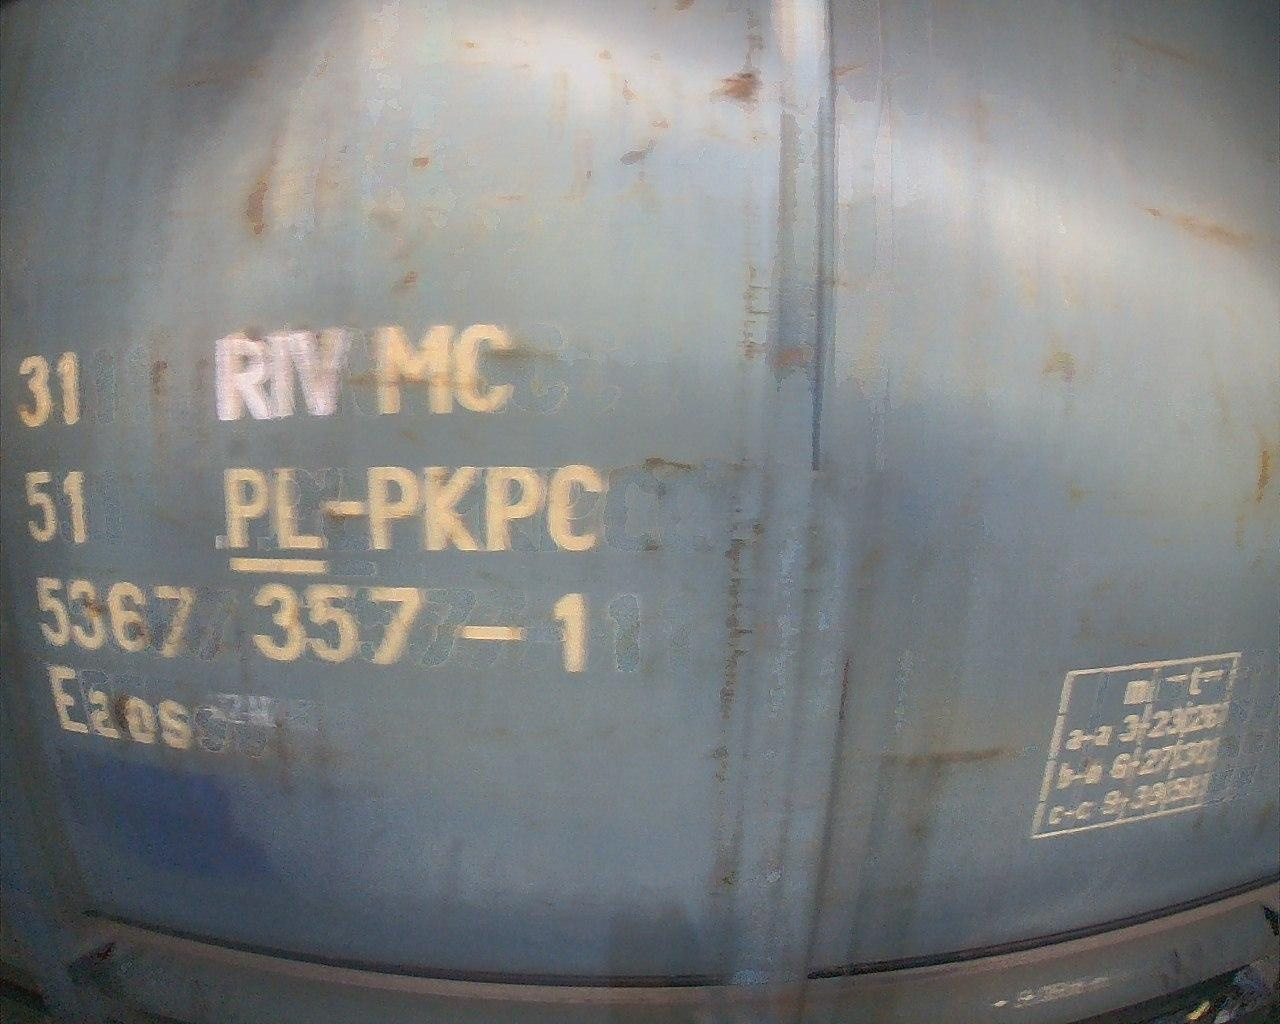UIC: (13, 312, 618, 772)
